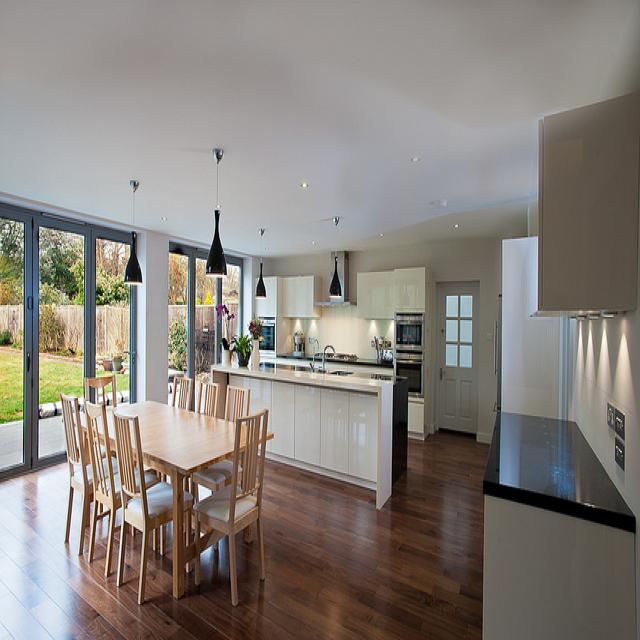chair: (113, 409, 194, 603), (195, 409, 267, 606), (192, 385, 250, 505), (83, 401, 122, 576), (61, 393, 95, 558), (84, 374, 117, 409), (114, 470, 160, 494), (197, 380, 221, 419), (170, 375, 194, 410)
dining table: (85, 395, 272, 601)
